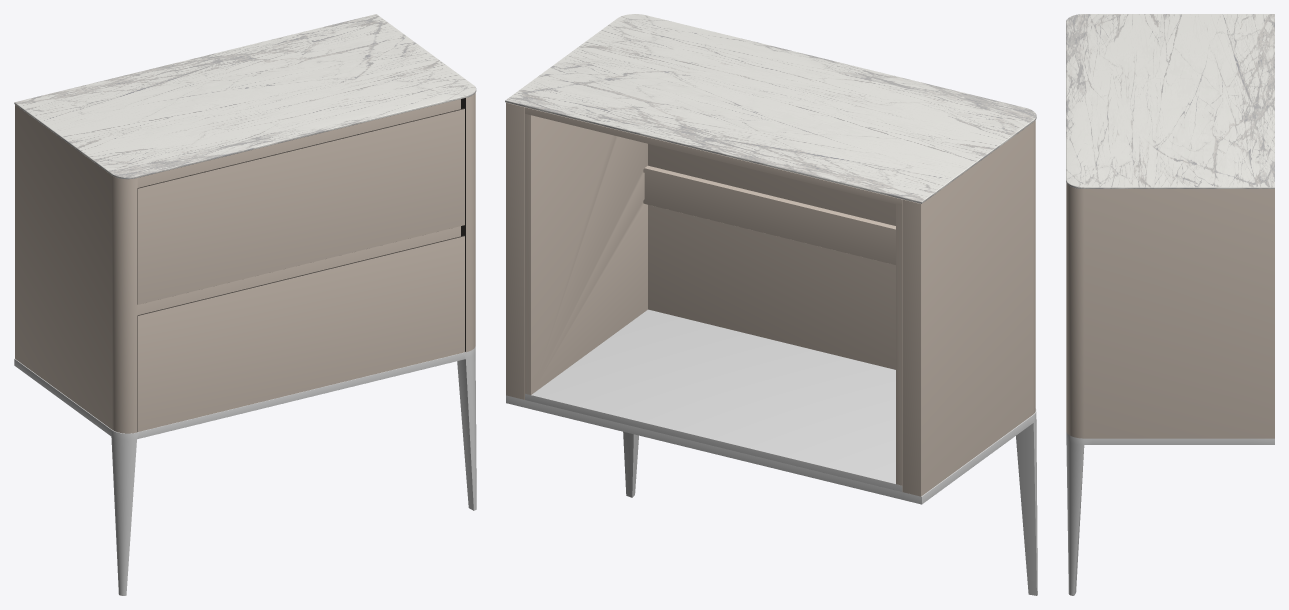
The picture shows the model from 3 angles, left to right: view 1: azimuth 30°, elevation 25°; view 2: azimuth 150°, elevation 25°; view 3: azimuth 270°, elevation 25°; orthographic projection. The views are drawn at different scales.
Parts seen in each view (by area): view 1: ER04; view 2: ER04; view 3: ER04.
Boxes of the visible parts, box(x1,y1,x2,y2) form: ER04: box(14, 14, 476, 595); ER04: box(505, 14, 1037, 595); ER04: box(1066, 14, 1274, 595).
Size of the model in its own units: 1.1 by 1.21 by 0.56.
Materials: 5 (1 with a texture image).
